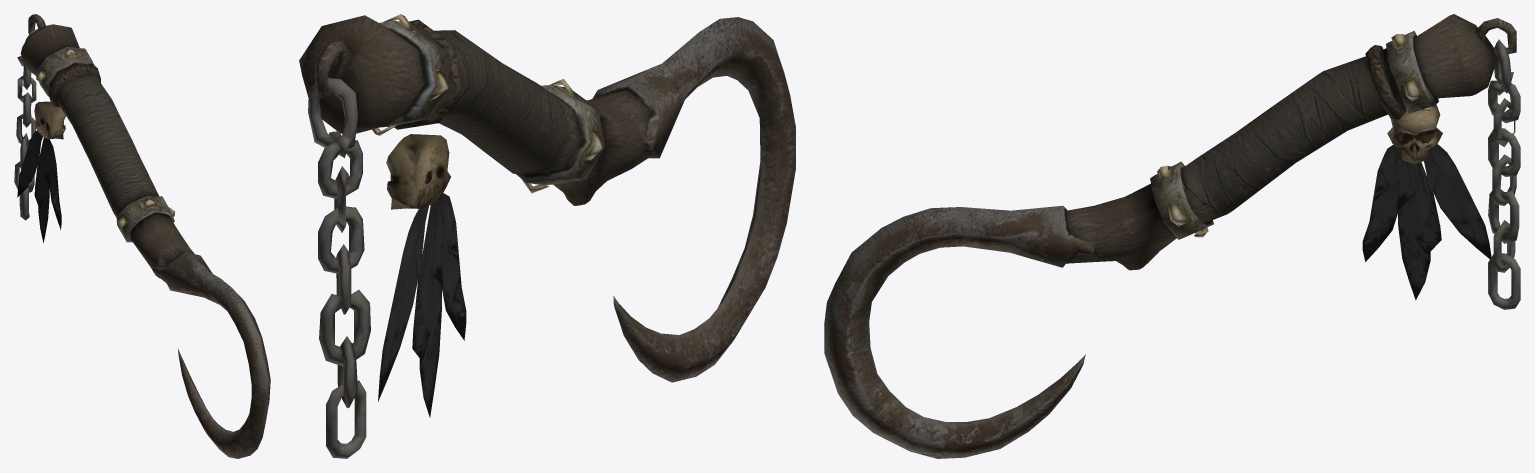
File: gear_witch_hook.glb
3 renders of one model, left to right at view 1: azimuth 30°, elevation 25°; view 2: azimuth 150°, elevation 25°; view 3: azimuth 270°, elevation 25°, orthographic. The views are drawn at different scales.
Visible parts, largest first — view 1: tripo_node_83daad1f-3496-45ed-9034-8f8da8bca69f; view 2: tripo_node_83daad1f-3496-45ed-9034-8f8da8bca69f; view 3: tripo_node_83daad1f-3496-45ed-9034-8f8da8bca69f.
Boxes of the visible parts, left/top/right/bottom form: tripo_node_83daad1f-3496-45ed-9034-8f8da8bca69f: left=14, top=14, right=270, bottom=458; tripo_node_83daad1f-3496-45ed-9034-8f8da8bca69f: left=299, top=14, right=795, bottom=458; tripo_node_83daad1f-3496-45ed-9034-8f8da8bca69f: left=824, top=14, right=1520, bottom=458.
Size of the model in its own units: 0.1425 by 0.7012 by 0.998.
1 material, 1 textured.
